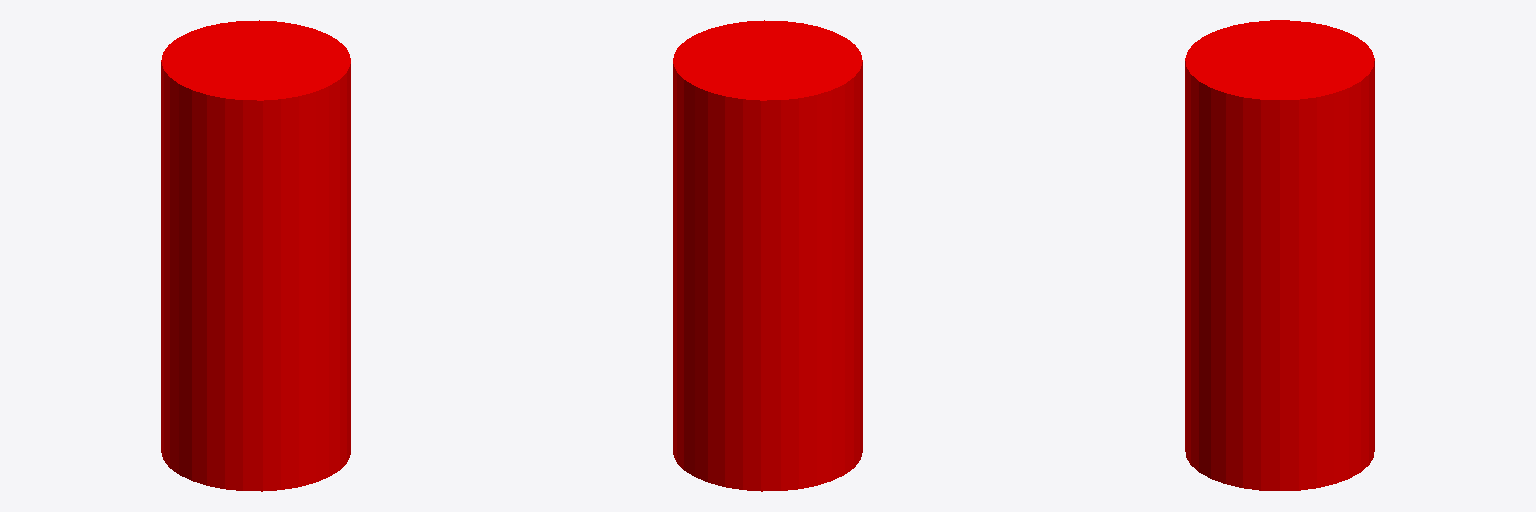
The robot description file, URDF, robot "object":
<?xml version="1.0" encoding="utf-8"?>
<!-- =================================================================================== -->
<!-- |    This document was autogenerated by xacro from object.urdf.xacro              | -->
<!-- |    EDITING THIS FILE BY HAND IS NOT RECOMMENDED                                 | -->
<!-- =================================================================================== -->
<!-- =================================================================================== -->
<!-- |    This document was autogenerated by xacro from cabine.urdf                    | -->
<!-- |    EDITING THIS FILE BY HAND IS NOT RECOMMENDED                                 | -->
<!-- =================================================================================== -->
<robot name="object">
  <link name="object_link">
    <inertial>
      <mass value="1"/>
      <origin xyz="0 0 0"/>
      <inertia ixx="1.0" ixy="0.00" ixz="0.0" iyy="1.0" iyz="0.0" izz="1.0"/>
    </inertial>
    <visual name="visual">
      <origin xyz="0 0 -0.05"/>
      <geometry>
        <mesh filename="package://ur_platform/model/object.DAE"/>    
      </geometry>
    </visual>
    <collision name="plane_collision">
      <origin rpy="0 0 0" xyz="0 0 0"/>
      <geometry>
         <cylinder radius="0.022" length="0.1"/>
      </geometry>
    </collision>
  </link>
  <gazebo reference="object_link">
      <material>Gazebo/Black</material>
  </gazebo>
</robot>

--- What the picture shows (computed from the rendered views, not written in the file) ---
3 views of the same robot in one strip: view 1: azimuth 30°, elevation 25°; view 2: azimuth 150°, elevation 25°; view 3: azimuth 270°, elevation 25° (orthographic).
Robot: object — 1 links, 0 joints (none); root link object_link; default pose: all joints at 0.
Visible links, largest first — view 1: object_link; view 2: object_link; view 3: object_link.
Link boxes in pixels (box(x1,y1,x2,y2)): object_link: box(161, 20, 350, 491); object_link: box(673, 20, 862, 491); object_link: box(1185, 20, 1374, 490).
Bounding box of the posed robot: 0.0439 × 0.0439 × 0.1 m (x, y, z).
Meshes: 1 distinct files referenced, 1 mesh visuals loaded (1 Collada DAE).